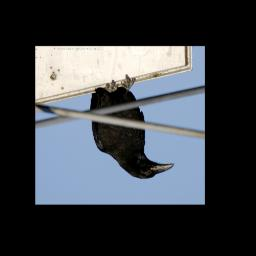Crow: (88, 75, 175, 180)
